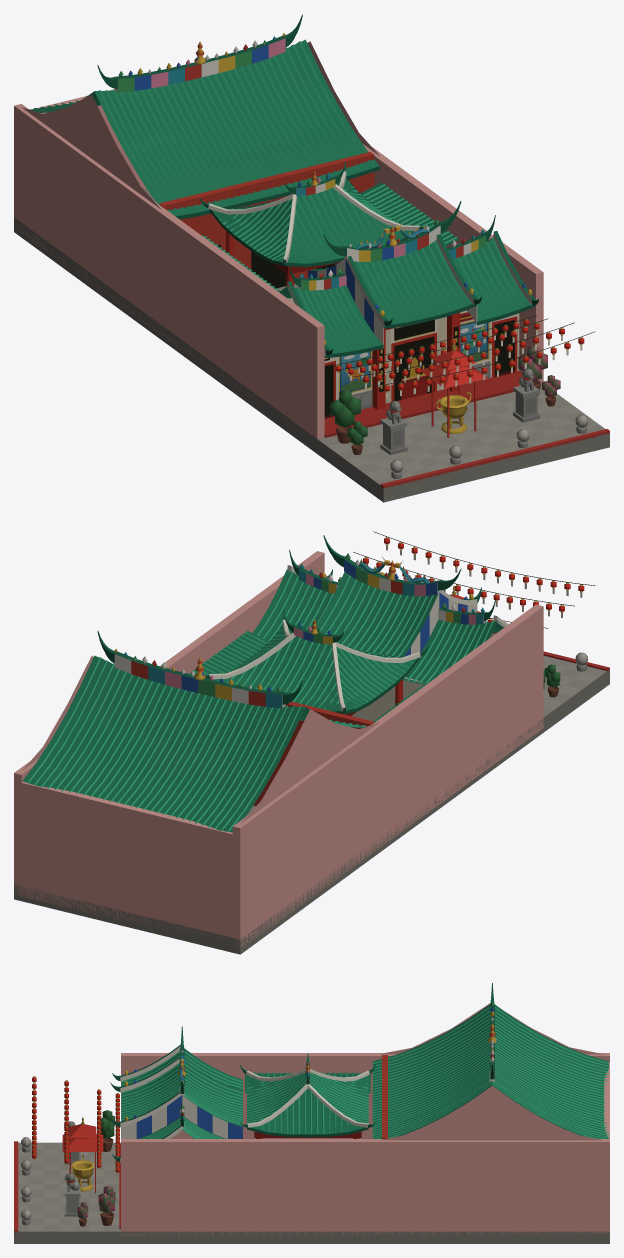
The picture shows the model from 3 angles, top to bottom: view 1: azimuth 30°, elevation 25°; view 2: azimuth 150°, elevation 25°; view 3: azimuth 270°, elevation 25°; orthographic projection. The views are drawn at different scales.
Parts seen in each view (by area): view 1: hiang-thian-siang-ti-temple-lod0; view 2: hiang-thian-siang-ti-temple-lod0; view 3: hiang-thian-siang-ti-temple-lod0.
Part boxes in pixels (x1,y1,x2,y2): hiang-thian-siang-ti-temple-lod0: (14, 14, 609, 502); hiang-thian-siang-ti-temple-lod0: (14, 531, 609, 954); hiang-thian-siang-ti-temple-lod0: (14, 983, 609, 1243).
Bounding box in the file's own units: 10.4 × 9.58 × 29.4.
